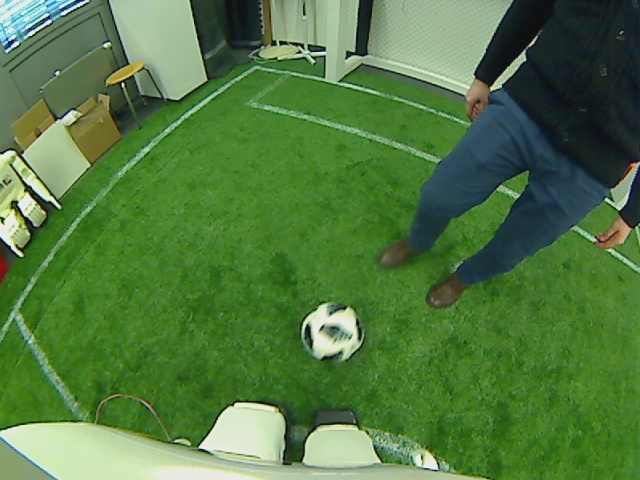ball: (299, 302, 364, 364)
